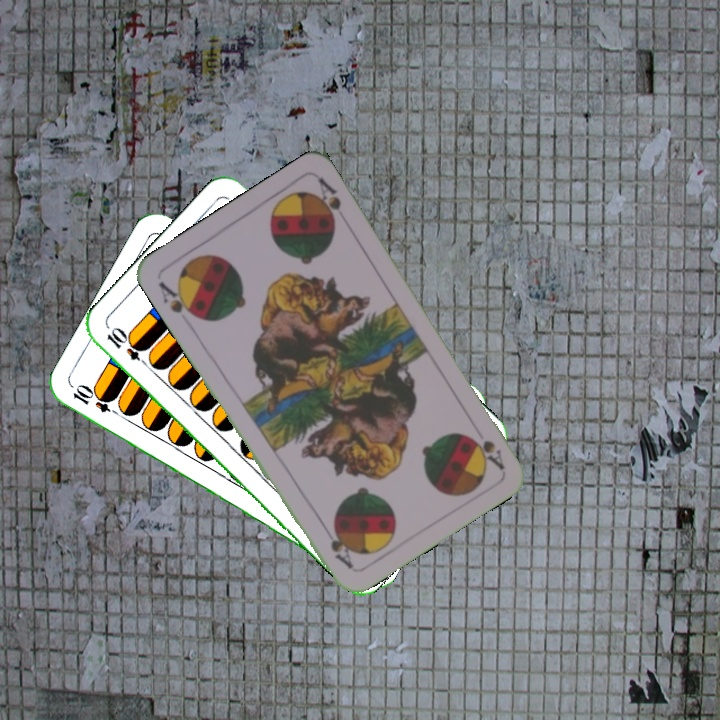E10: (102, 324, 154, 371), (69, 382, 125, 420)
SA: (154, 277, 202, 322), (469, 433, 507, 472)
